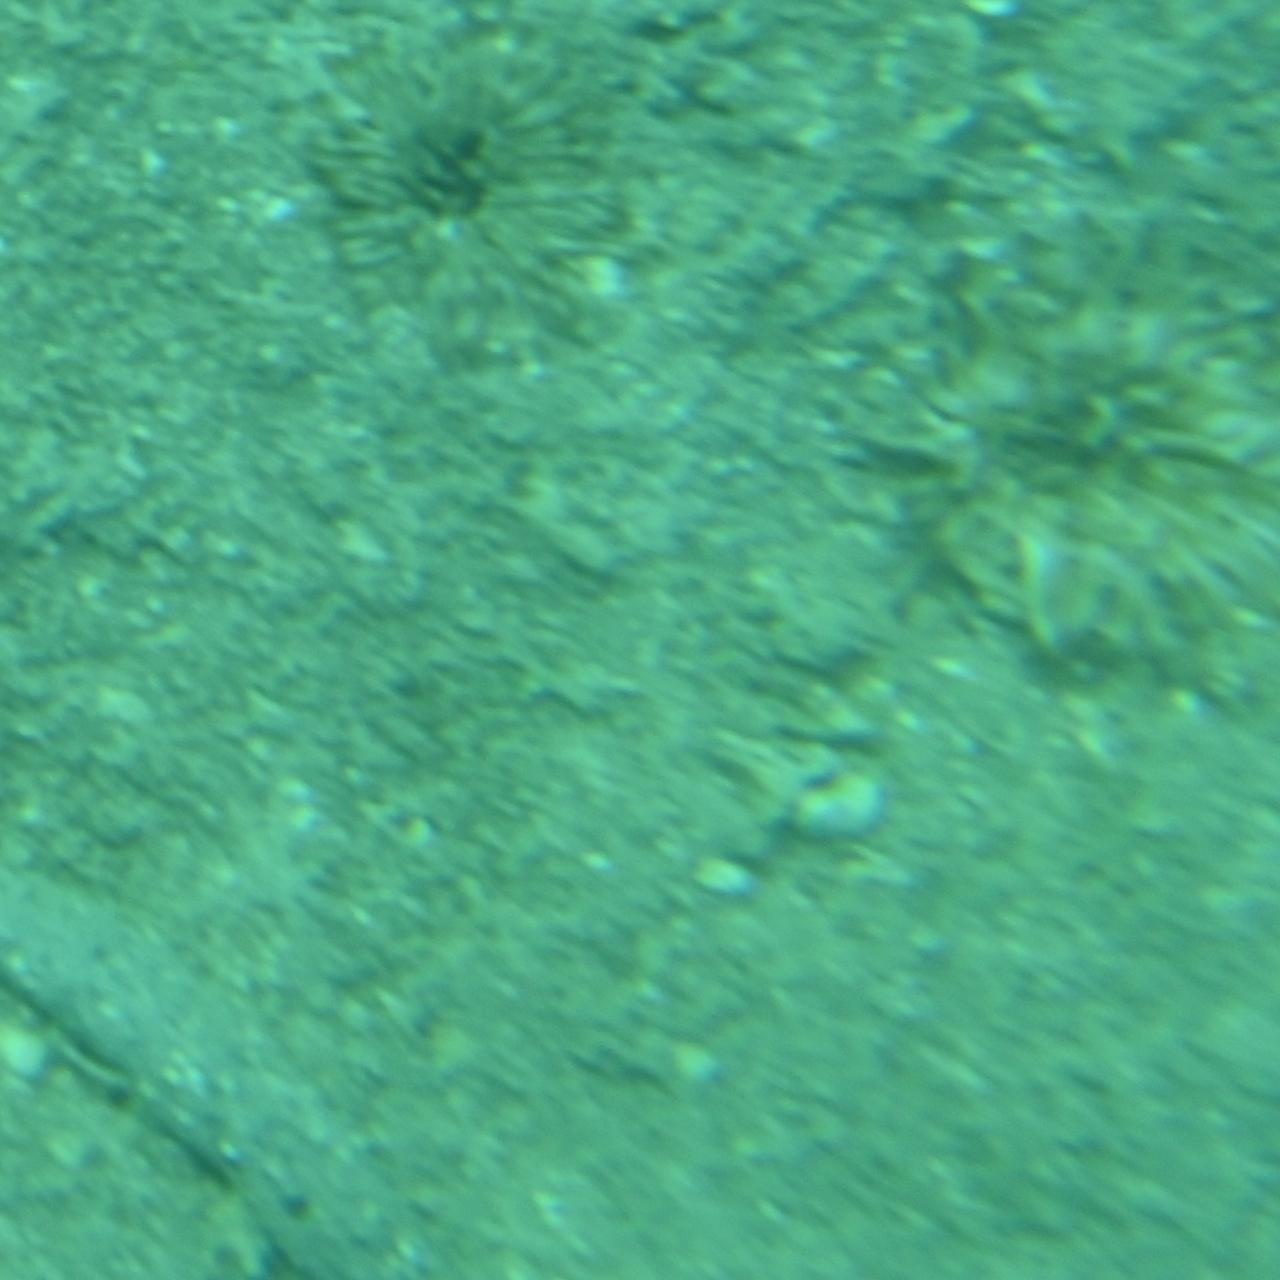Condylactis aurantiaca: (860, 202, 1280, 787), (285, 6, 672, 373)
Holothuria tubulosa: (0, 821, 493, 1280)
